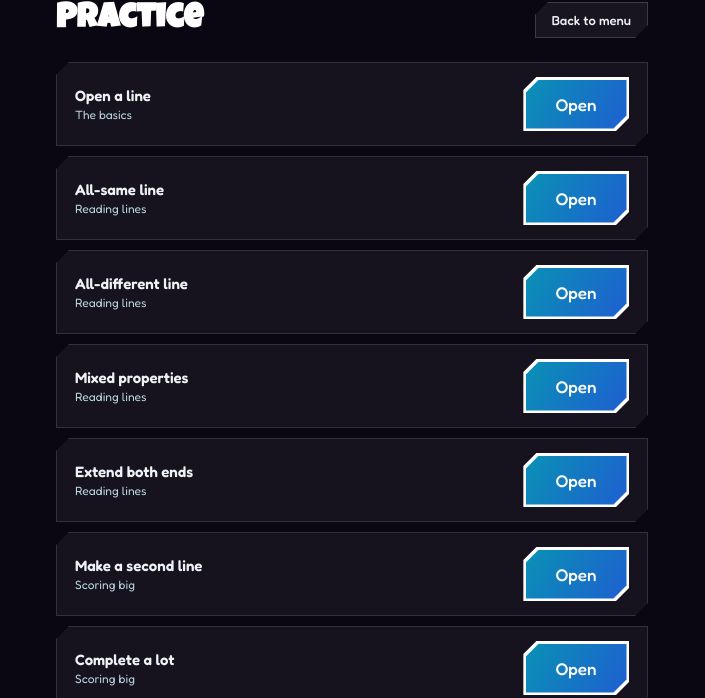
Practice › shows a Pass button only for forced-pass puzzles, and grading a pass solves it
This screenshot has width=705, height=698.
Step 1. Click the button with aria-label "Open Complete a lot" → (576, 668), box top-left (523, 641), bottom-right (629, 695)
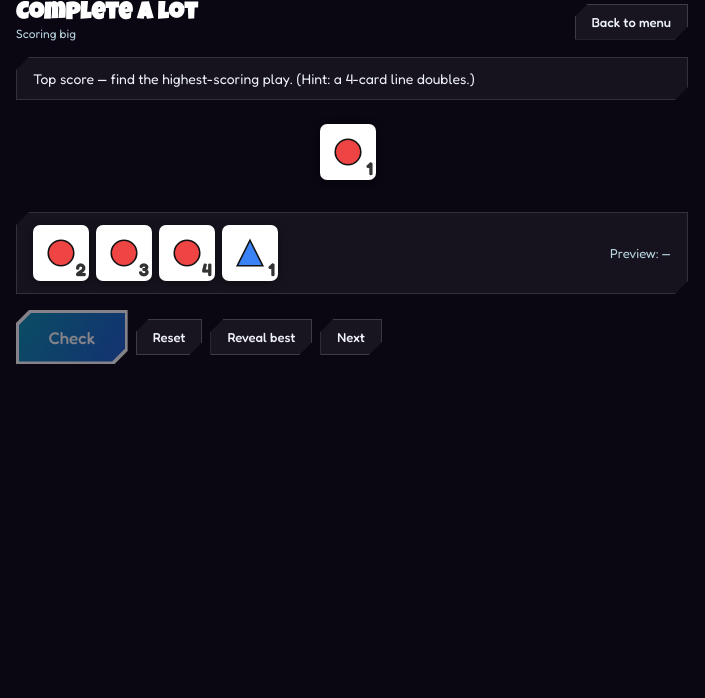
Check: the button "pass" is not shown
Step 2. Click the button "Back to menu" → (631, 22), box top-left (575, 4), bottom-right (688, 40)
(page scrolled)
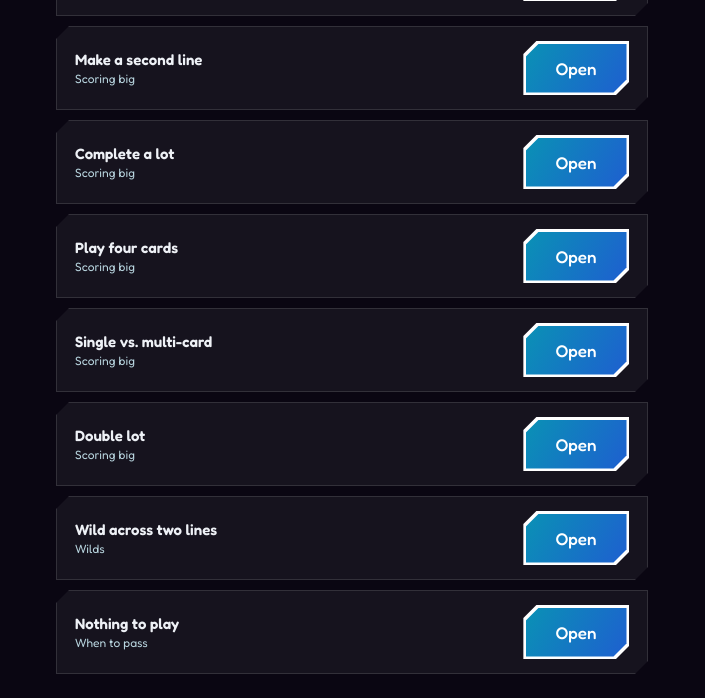
Step 3. Click the button with aria-label "Open Nothing to play" → (576, 632), box top-left (523, 605), bottom-right (629, 659)
(page scrolled)
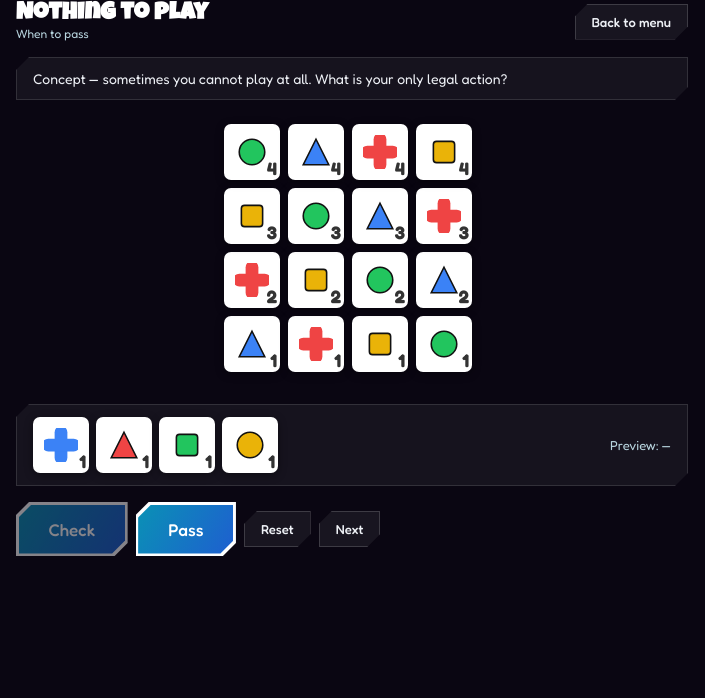
Check: the button "Pass" is shown
Step 4. Click the button "Pass" → (186, 529), box top-left (136, 502), bottom-right (236, 556)
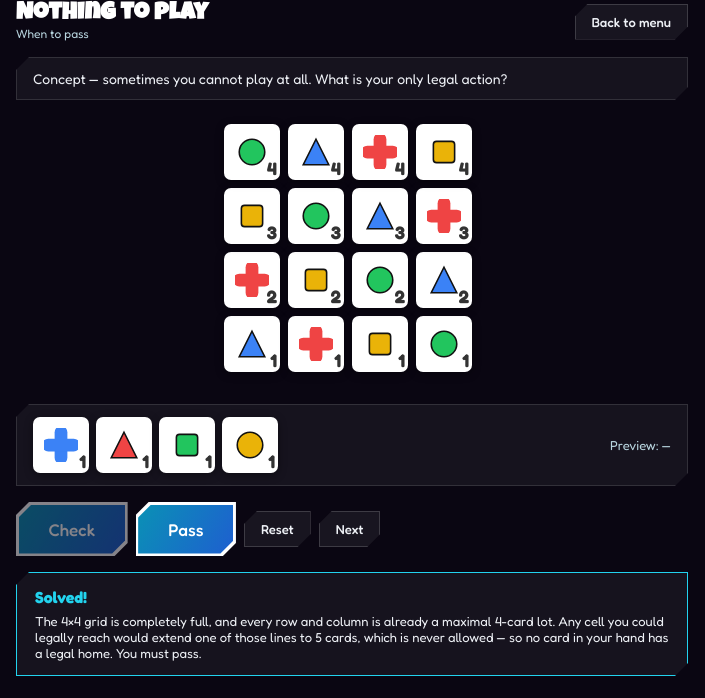
Check: the text "Solved!" is shown, box top-left (35, 587), bottom-right (87, 607)
